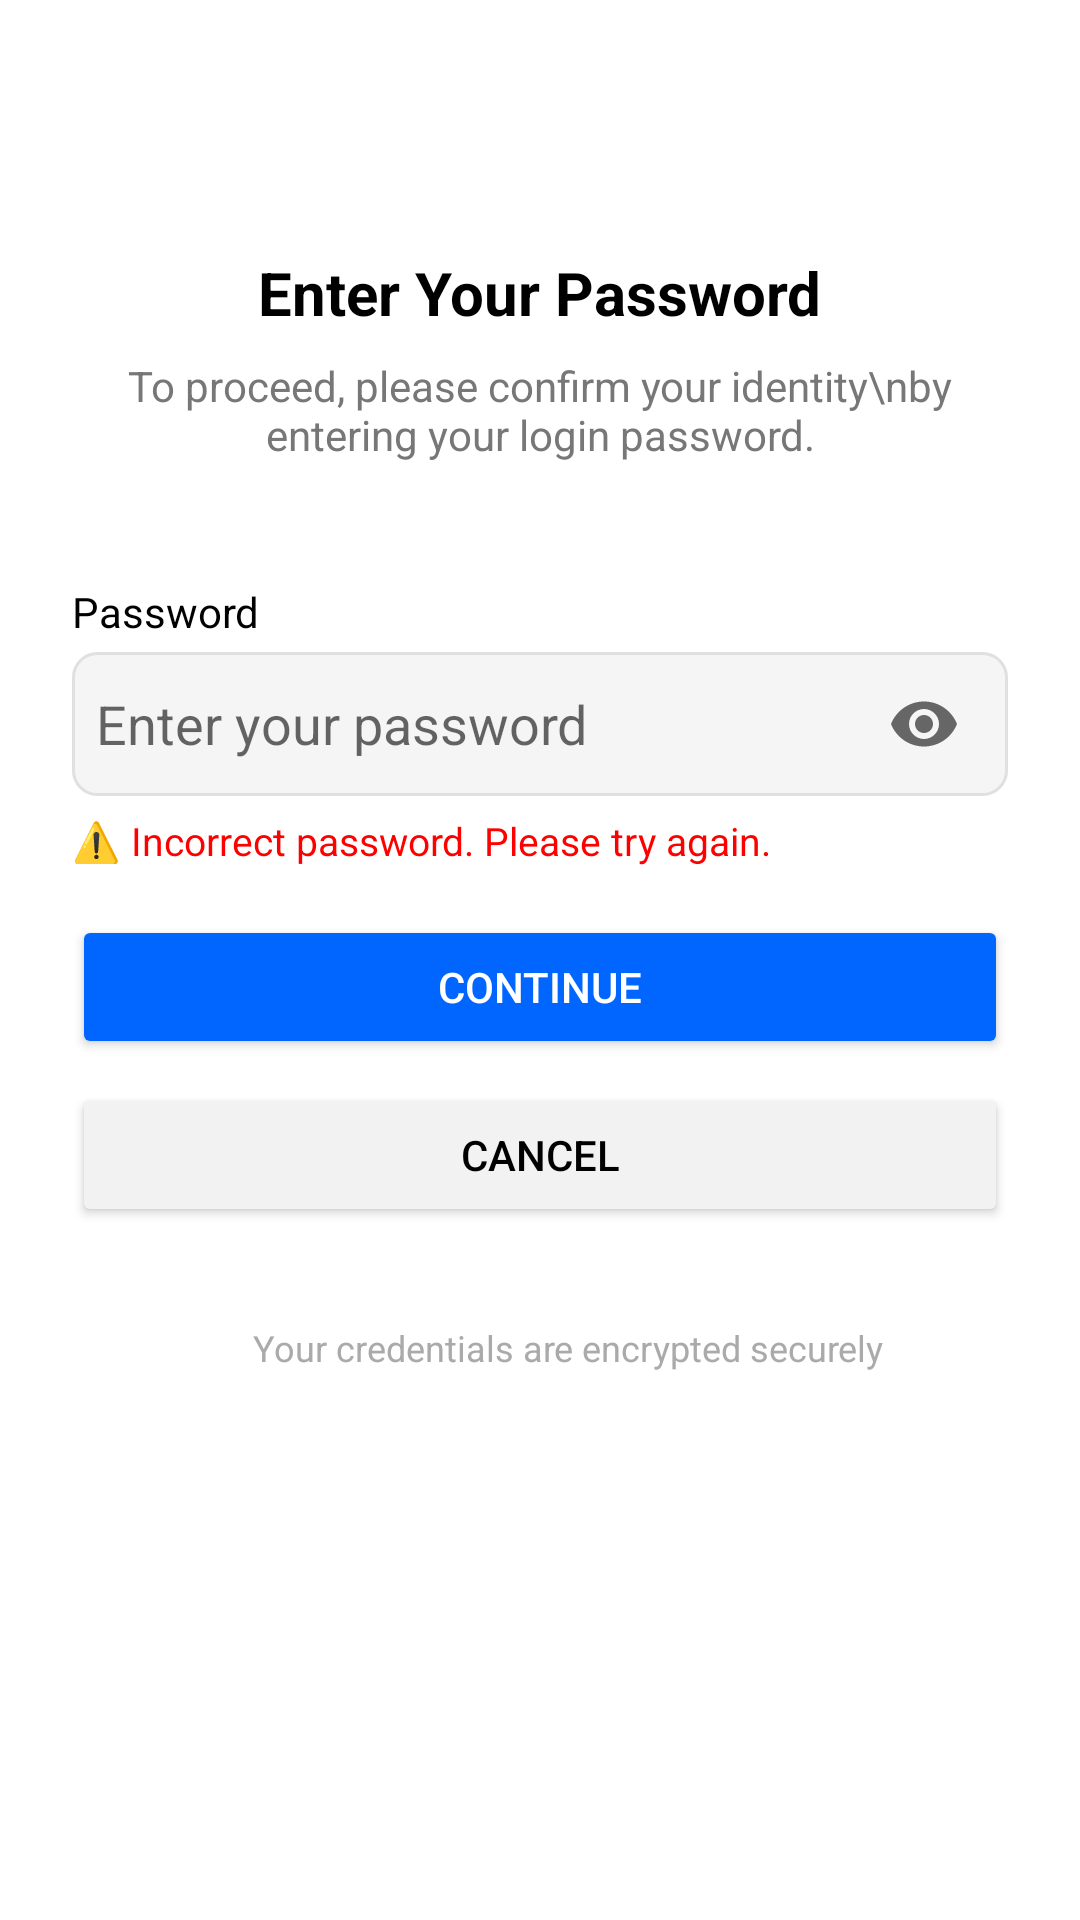

Screen size 1080×1920. Icon name, then its box in pixels as (x1, y1, x2, y2):
eye: (891, 701, 957, 747)
